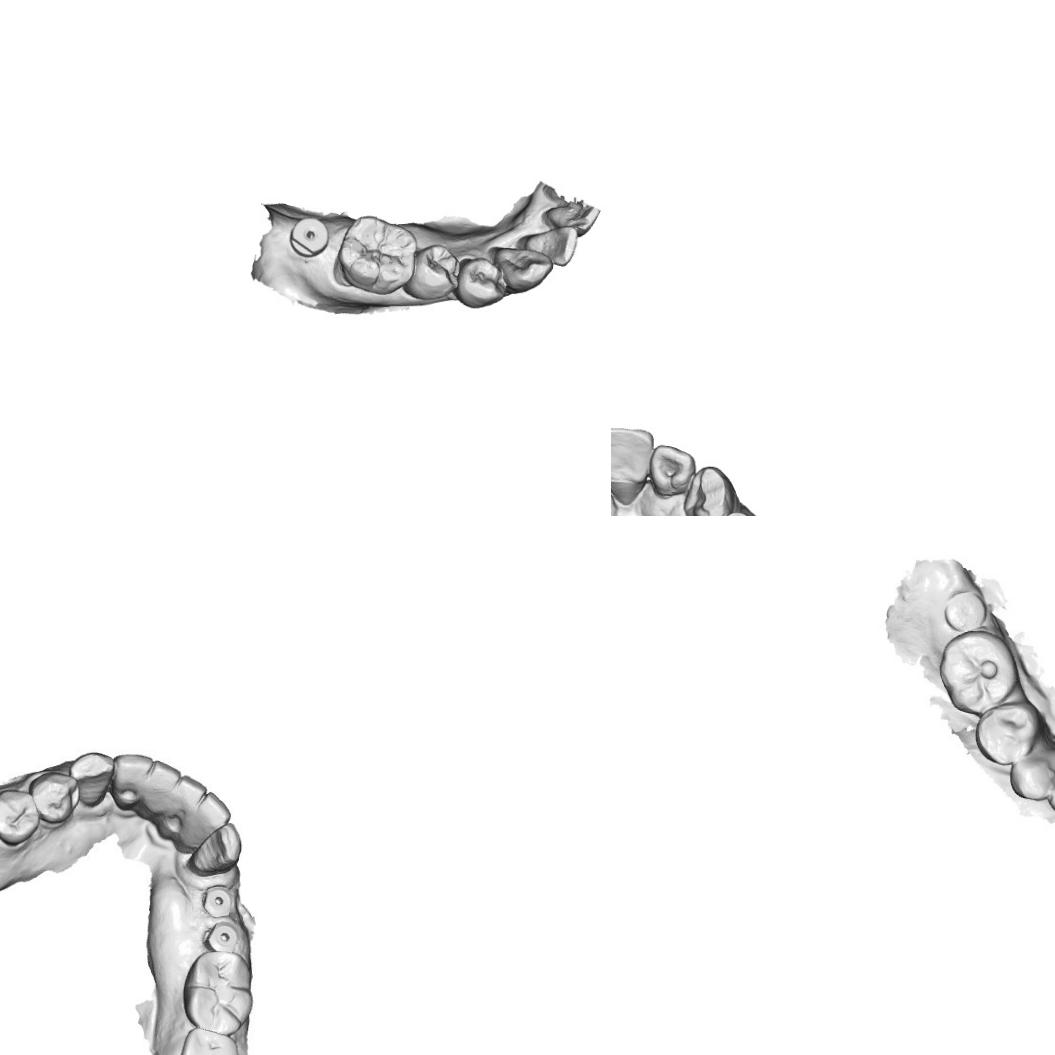canine: (486, 244, 554, 295), (681, 461, 735, 516), (186, 822, 238, 874), (1010, 748, 1055, 804), (75, 753, 114, 808)
implant: (288, 215, 330, 258), (206, 917, 240, 953), (202, 881, 232, 917)
incisor: (611, 424, 654, 506), (648, 442, 698, 499), (112, 752, 151, 818), (521, 223, 578, 267), (540, 199, 601, 238), (170, 770, 205, 812), (142, 758, 180, 796), (194, 795, 230, 834), (1043, 778, 1055, 829)
molar: (336, 212, 418, 297), (938, 630, 1015, 705), (186, 954, 244, 1034), (176, 1032, 238, 1055)
premolar: (402, 242, 460, 300), (977, 708, 1037, 763), (32, 768, 82, 831), (453, 256, 509, 310), (0, 790, 34, 848)
